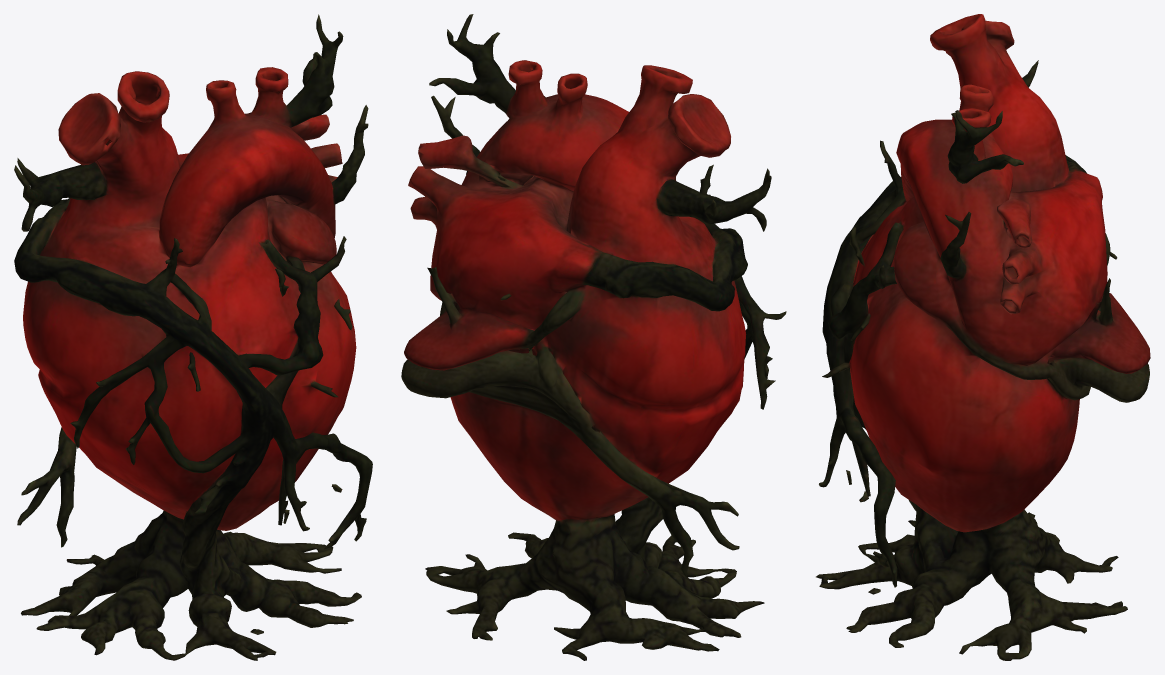
The model's file is heart.glb.
3 views of the same model, side by side, from view 1: azimuth 30°, elevation 25°; view 2: azimuth 150°, elevation 25°; view 3: azimuth 270°, elevation 25° (orthographic).
Visible parts, largest first — view 1: world; view 2: world; view 3: world.
Part boxes in pixels (<box>): world: <box>14,14,372,660</box>; world: <box>401,14,786,660</box>; world: <box>816,14,1150,660</box>.
Size of the model in its own units: 0.6574 by 0.9978 by 0.552.
Materials: 1 (1 with a texture image).
